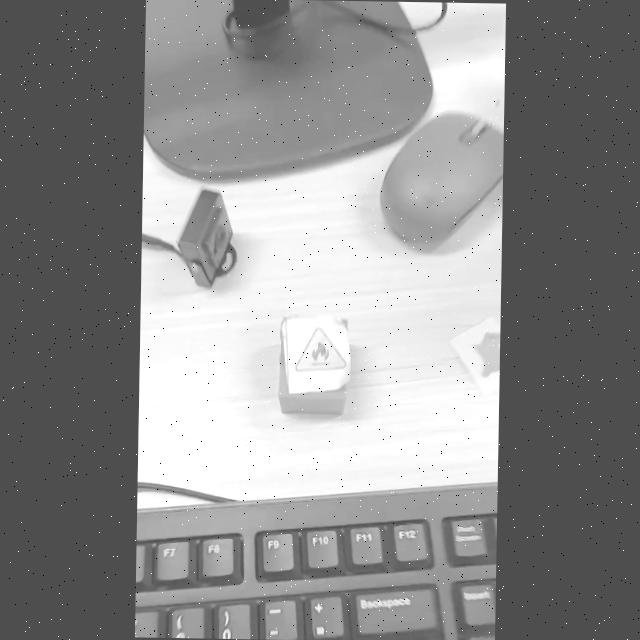Fire: (295, 327, 346, 371)
